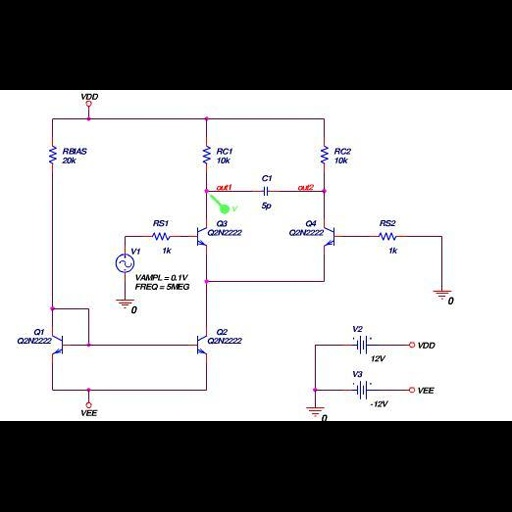capacitor: (257, 182, 273, 199)
gnd: (298, 403, 324, 416), (114, 296, 134, 307), (432, 288, 451, 299)
npn: (322, 220, 341, 255), (50, 330, 71, 359), (189, 328, 208, 359), (193, 220, 209, 247)
secondresistance: (146, 228, 176, 243), (374, 228, 403, 243), (46, 140, 59, 170), (316, 142, 331, 168), (200, 142, 212, 168)
